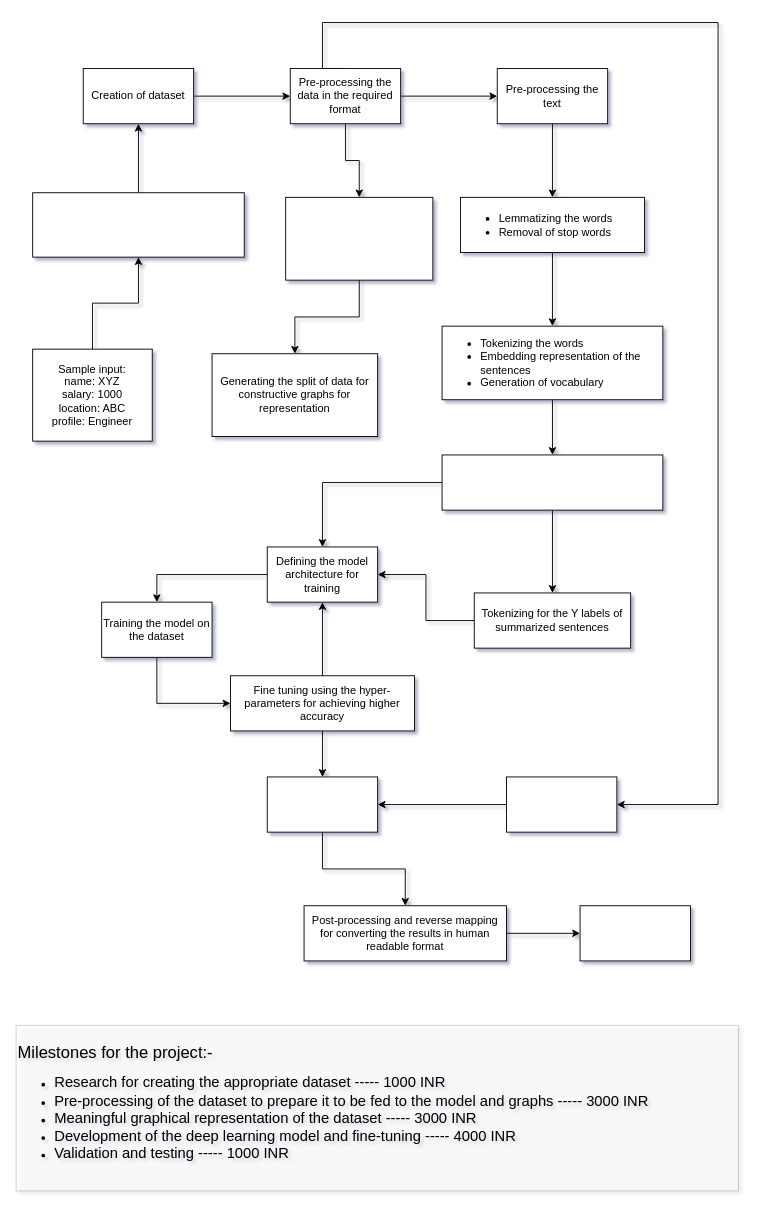
Image size: 760x1213. Some labels were removed from this diagram. The shapes that lost their labels are listed below. From the top down, each one's centre as x and y in pixels, then its label:
At point 138,224: "Sample output: Mr. XYZ is located in ABC with a salary of 1000 as as engineer.".
At point 359,238: "Passing it into matplotlib (python package) for graphical visualizations".
At point 552,482: "Pre-processing the input into sequential format with padding for X labels".
At point 322,804: "Defining the model architecture for inferencing".
At point 561,804: "Test data for validation".
At point 634,933: "Generated text as desired results".
